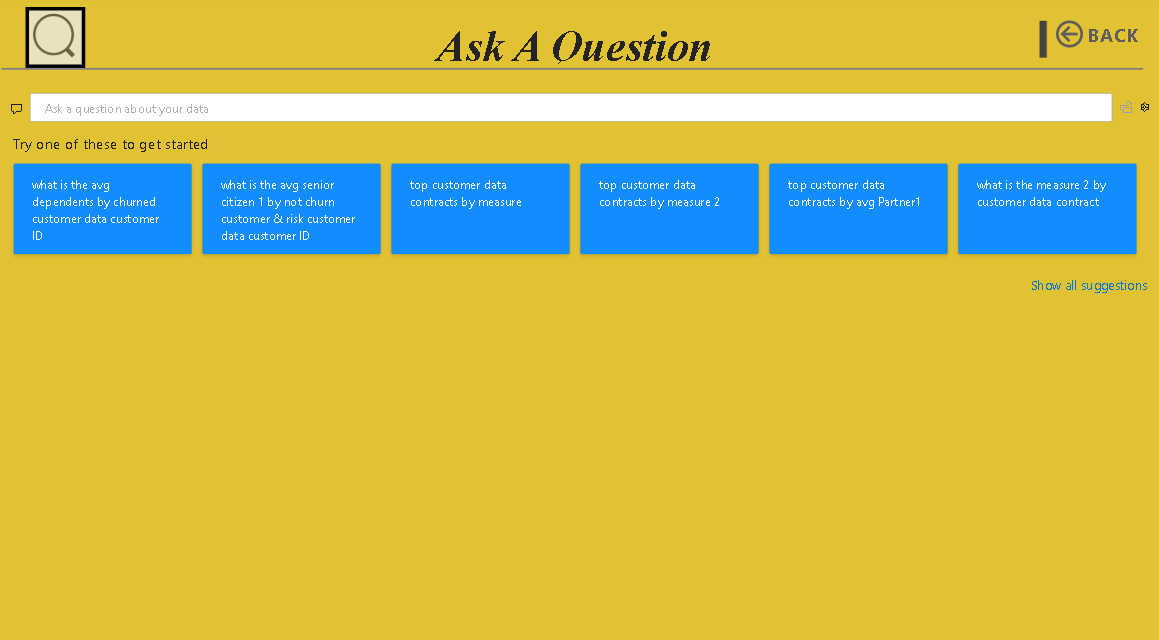

What the dashboard file says about the page in this screenshot:
{"tool":"powerbi","page":{"name":"Q & A","canvas":[1280,720],"ordinal":4},"visuals":[{"type":"actionButton","box":[28.9,13.7,66,67.4],"z":0},{"type":"textbox","box":[116,23.2,1045.2,58],"z":1000},{"type":"shape","box":[1.4,71.5,1260.8,20.6],"z":2000},{"type":"qnaVisual","box":[1.2,82,1278.4,638],"z":3000},{"type":"actionButton","box":[1161.4,22.9,100.1,39.8],"z":4000}]}

Visuals, with their boxes in screenshot pixels (x1, y1, x2, y2), scaled from the page's 1280x720 canvas onto the 1159x640 screenshot:
actionButton: x1=26 y1=12 x2=86 y2=72
textbox: x1=105 y1=21 x2=1051 y2=72
shape: x1=1 y1=64 x2=1143 y2=82
qnaVisual: x1=1 y1=73 x2=1158 y2=639
actionButton: x1=1052 y1=20 x2=1142 y2=56
